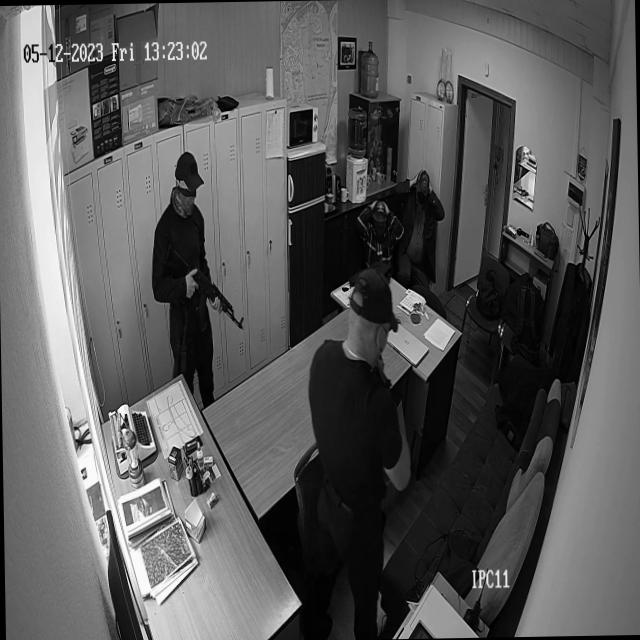gun: (170, 228, 246, 334)
person: (312, 269, 422, 640), (402, 165, 441, 258), (353, 199, 400, 271)
person with a gun: (151, 151, 220, 403)
